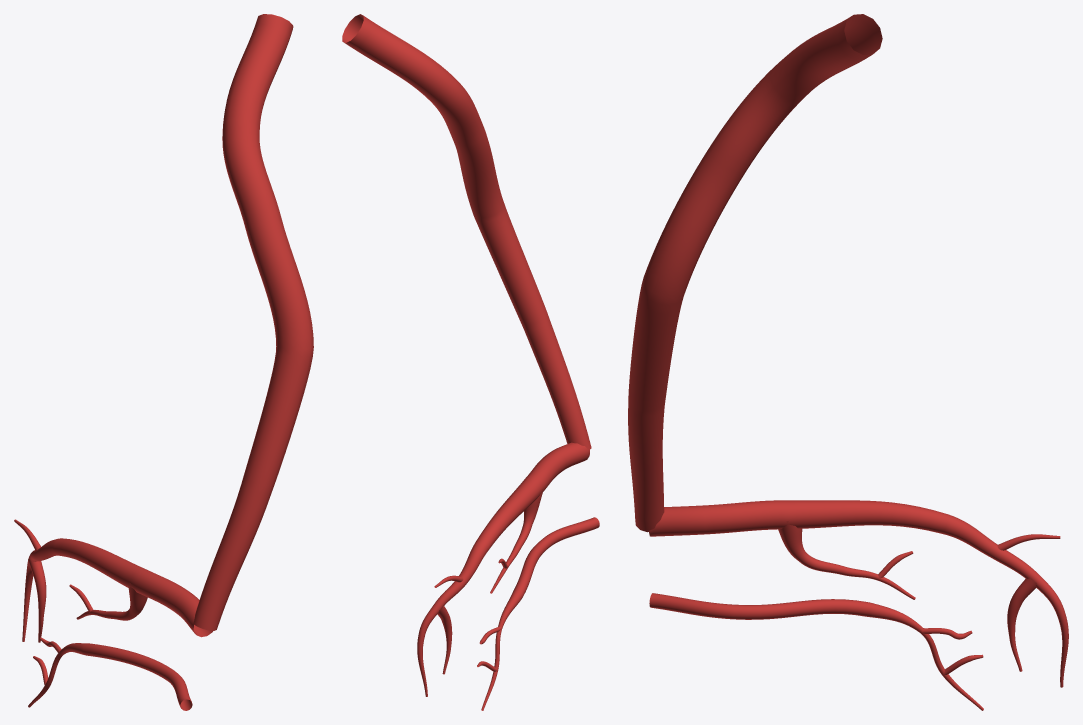
3 renders of one model, left to right at view 1: azimuth 30°, elevation 25°; view 2: azimuth 150°, elevation 25°; view 3: azimuth 270°, elevation 25°, orthographic. The views are drawn at different scales.
Visible parts, largest first — view 1: 左侧上颌动脉; view 2: 左侧上颌动脉; view 3: 左侧上颌动脉.
Boxes of the visible parts, x1=… form: 左侧上颌动脉: x1=14, y1=14, x2=313, y2=710; 左侧上颌动脉: x1=342, y1=14, x2=599, y2=710; 左侧上颌动脉: x1=628, y1=14, x2=1068, y2=710.
Size of the model in its own units: 0.0282 by 0.0883 by 0.044.
